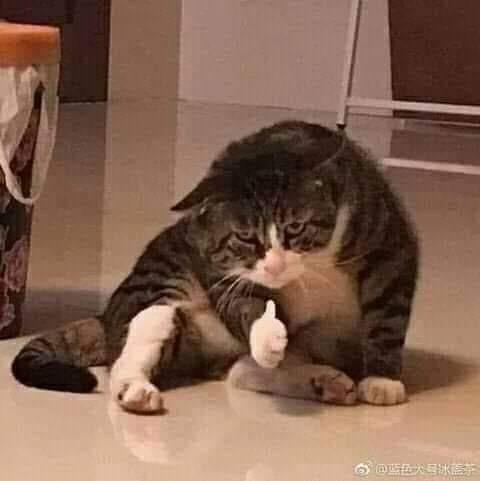dog: (12, 119, 421, 416)
